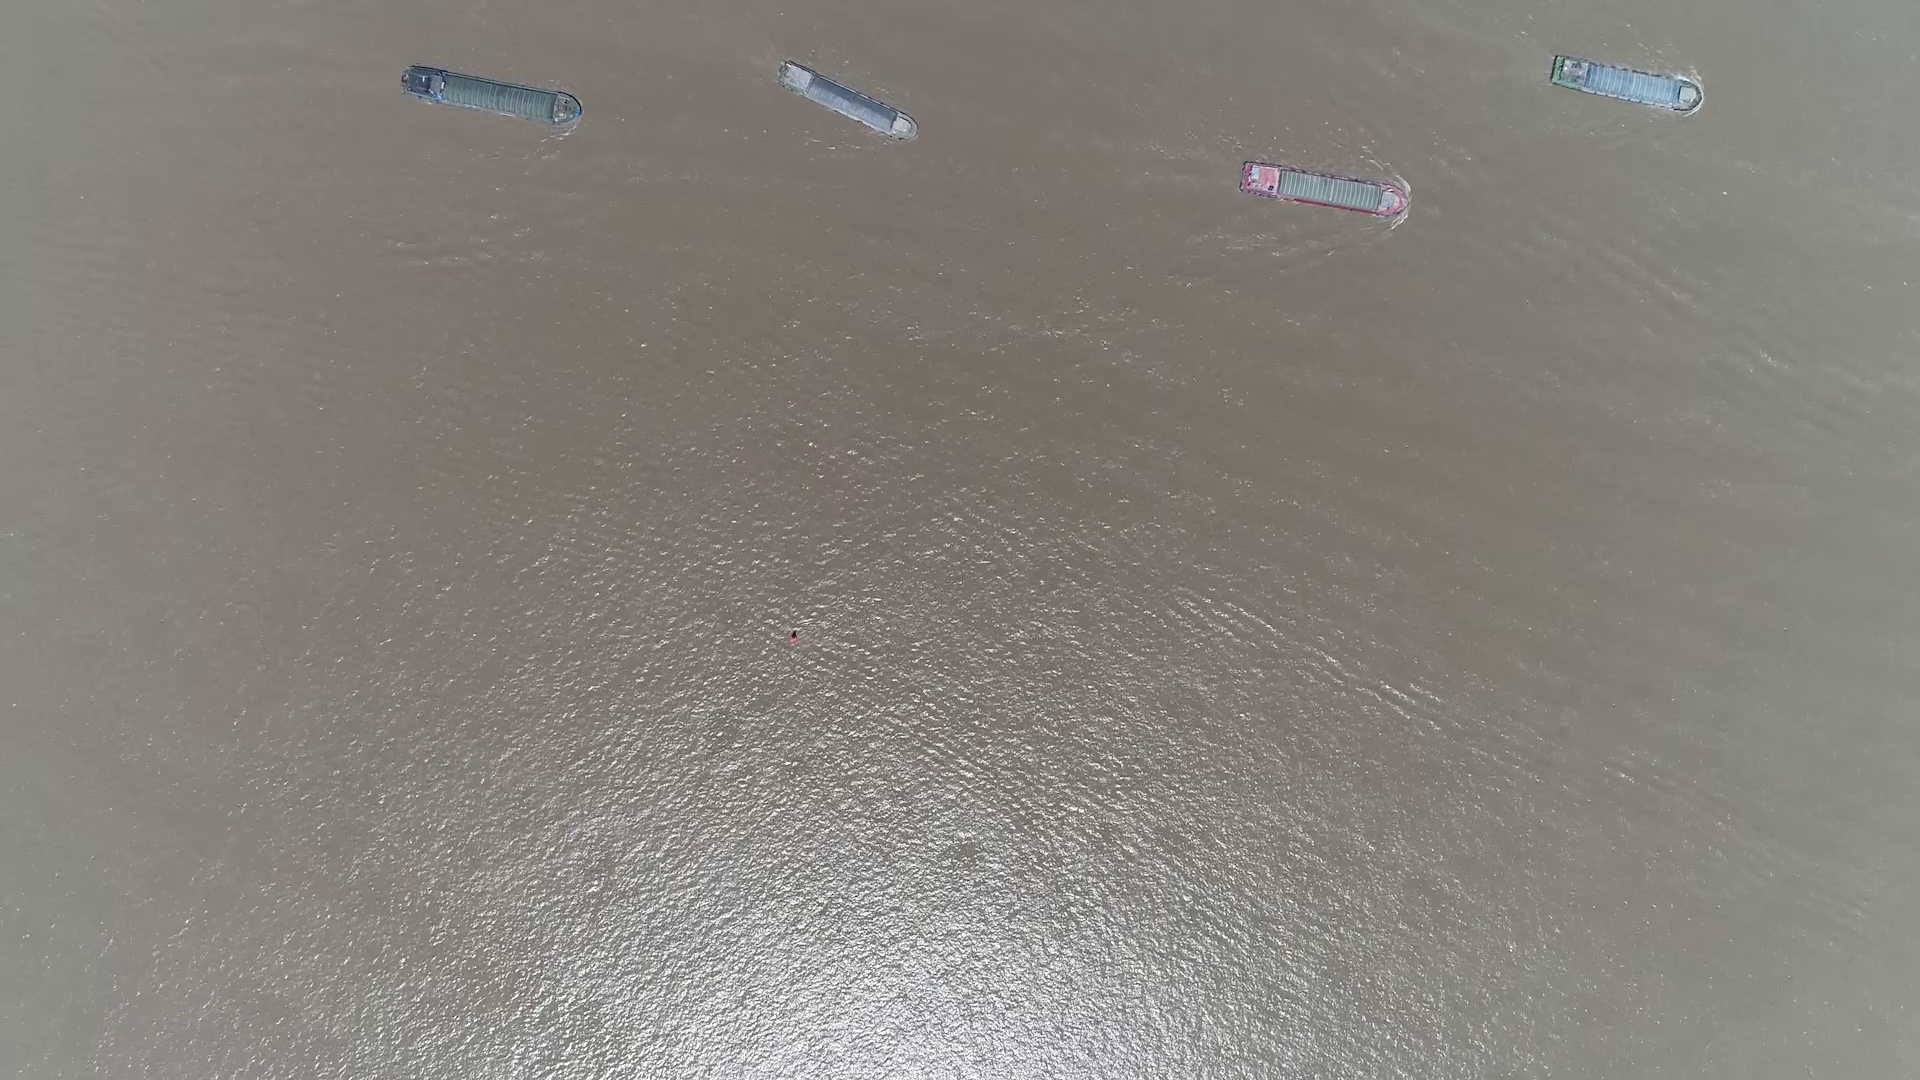ship: (401, 65, 582, 127), (778, 65, 916, 138), (1236, 164, 1411, 219), (1551, 57, 1701, 111)
